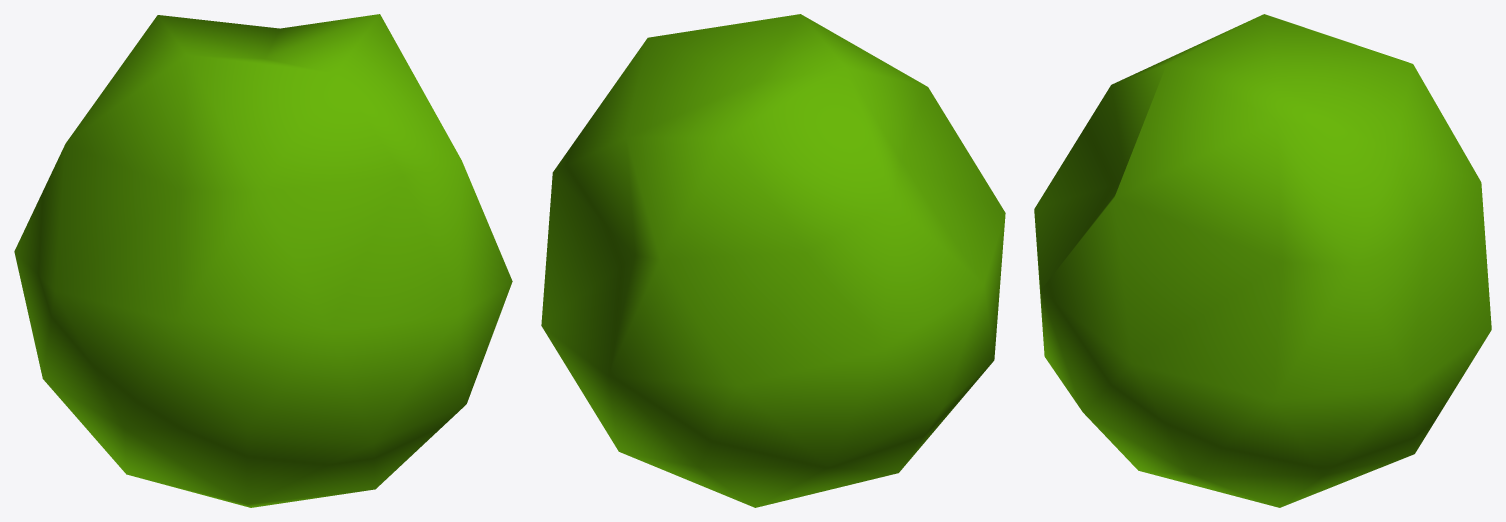
File: TadpoleFood.fbx
3 views of the same model, side by side, from view 1: azimuth 30°, elevation 25°; view 2: azimuth 150°, elevation 25°; view 3: azimuth 270°, elevation 25° (orthographic). The views are drawn at different scales.
Visible parts, largest first — view 1: Icosphere; view 2: Icosphere; view 3: Icosphere.
Part boxes in pixels (x1,y1,x2,y2): Icosphere: (14,14,512,507); Icosphere: (541,14,1005,507); Icosphere: (1034,14,1491,507).
Bounding box in the file's own units: 87.62 × 88.41 × 84.66.
